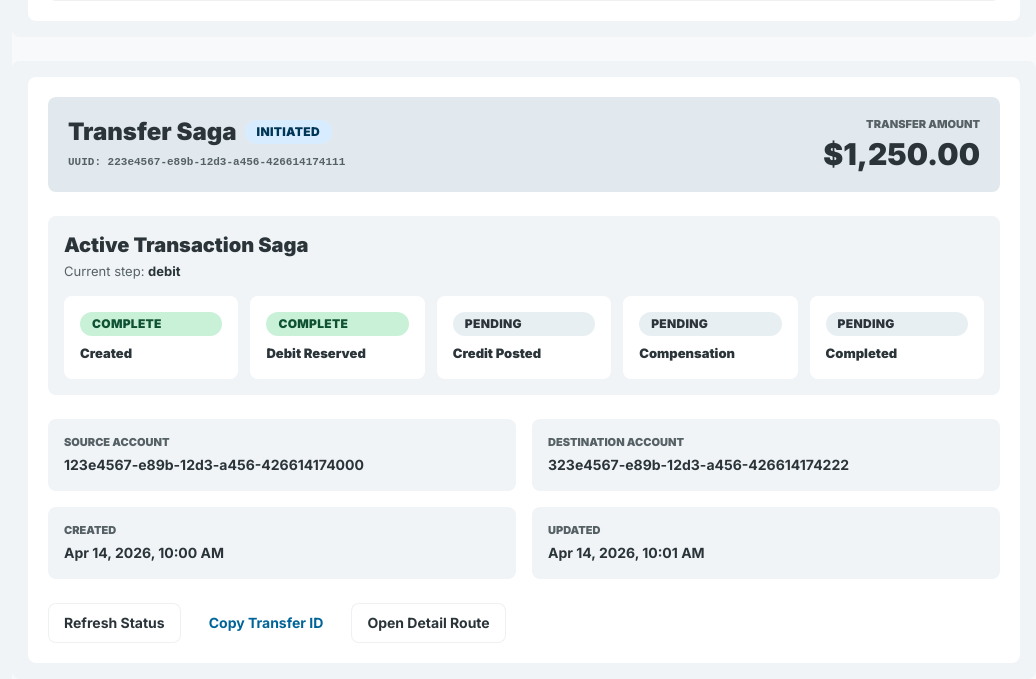
TransferOperationsPage › refreshes saga state and exposes copy transfer ID feedback
(page scrolled)
Click the button "Refresh Status".
click(114, 623)  # box top-left (48, 603), bottom-right (181, 643)
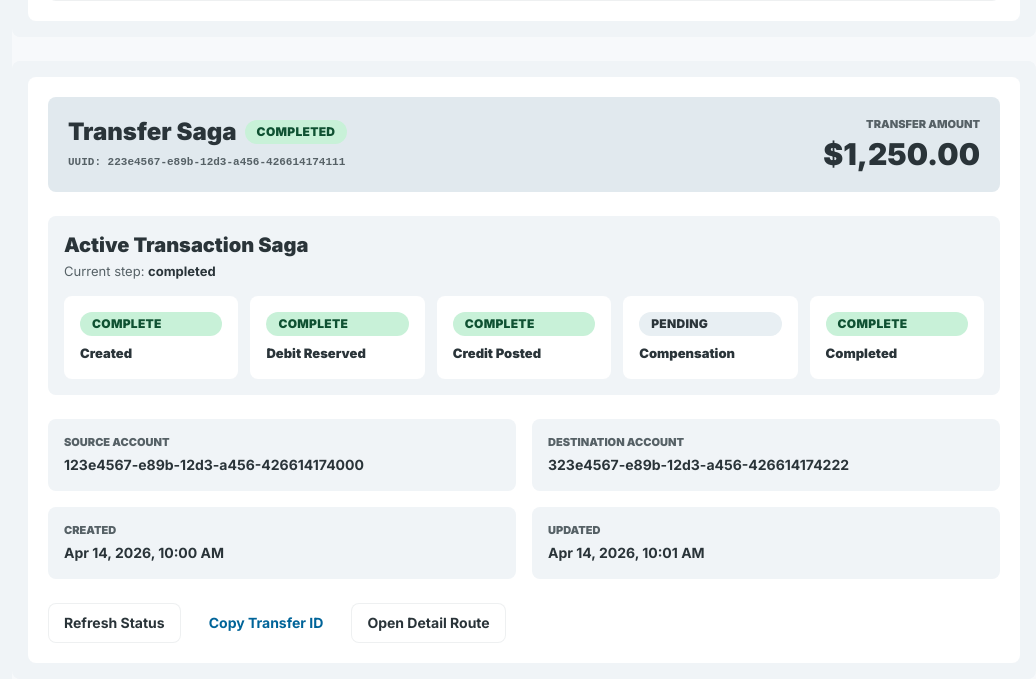
Click the button "Copy Transfer ID".
click(266, 623)  # box top-left (193, 603), bottom-right (339, 643)
(page scrolled)
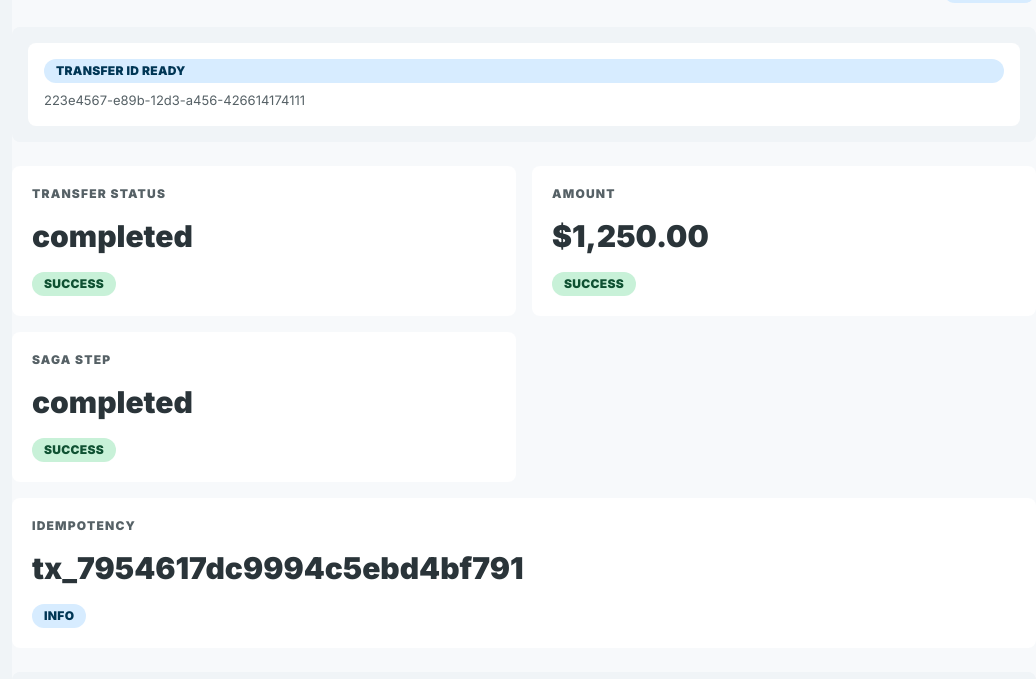
Now the text "Transfer ID Ready" is shown, box top-left (44, 59), bottom-right (1004, 83)
